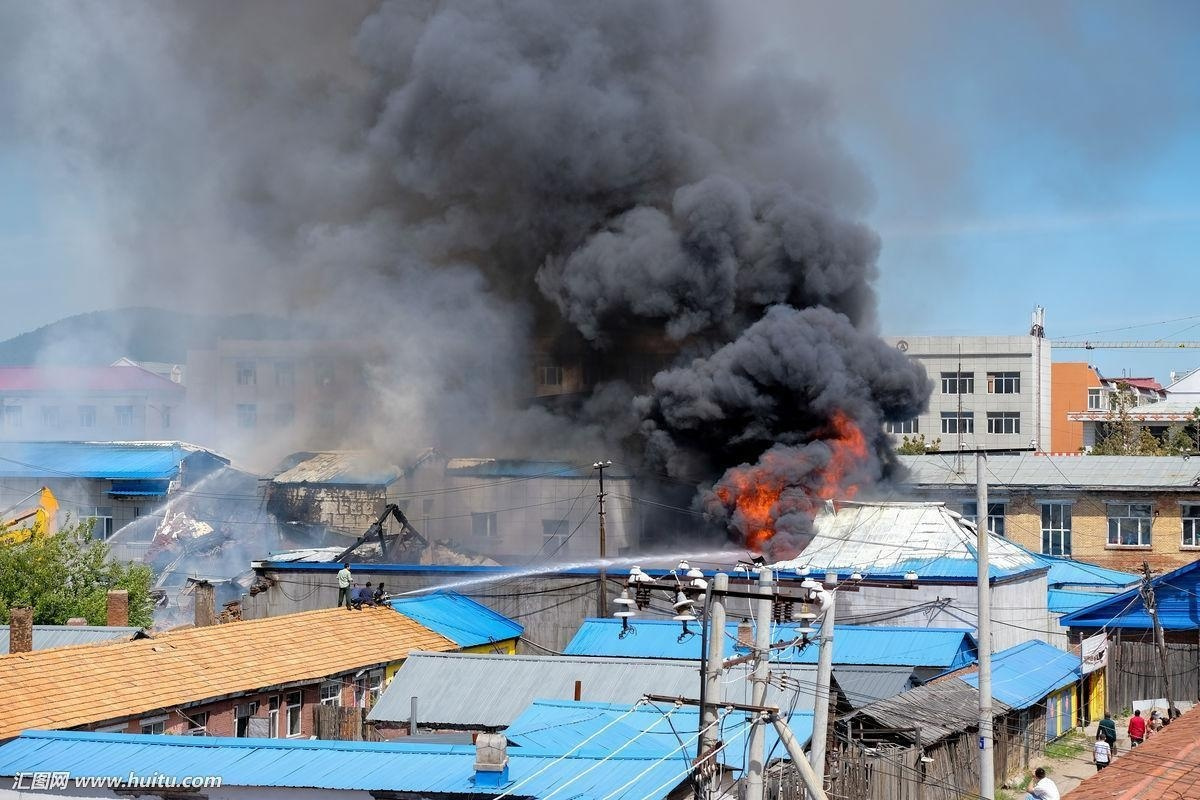fire: (711, 416, 867, 547)
